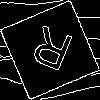R: (25, 25, 76, 81)
